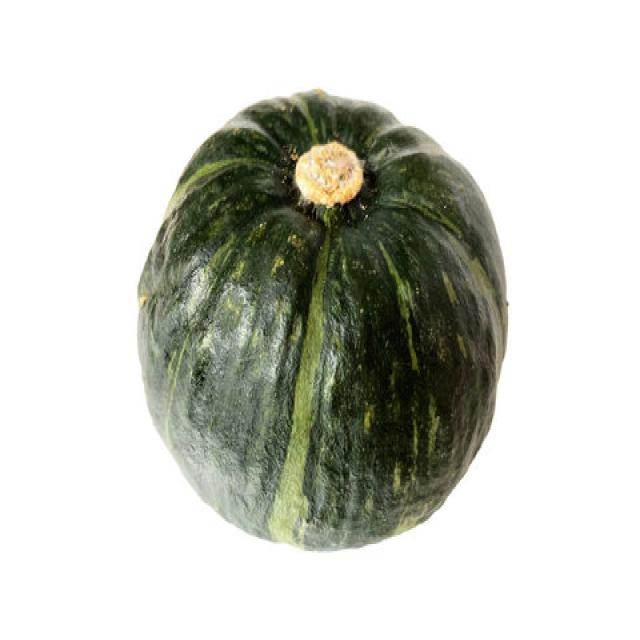Pumpkin: (135, 85, 508, 551)
